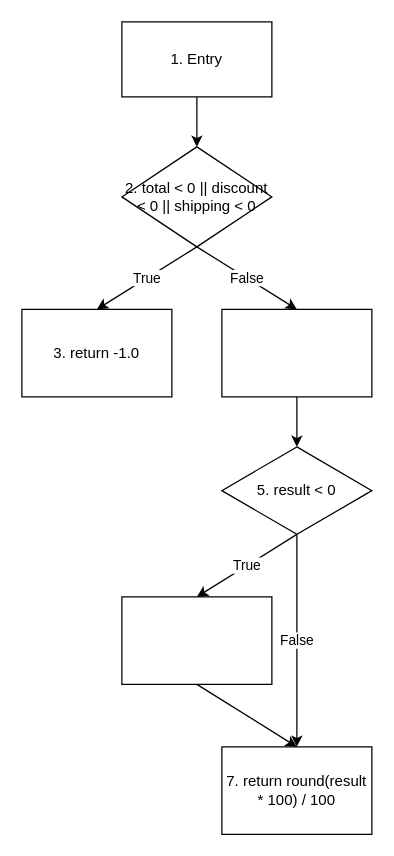
Some shapes in this 394 by 856 pixel diagram are drawn without their labels. The box of each missing label's shape, as (x1, y1, x2, y2) in pixels:
4. result = total - discount + shipping: (221, 308, 372, 397)
6. result = 0.0: (121, 596, 272, 684)
